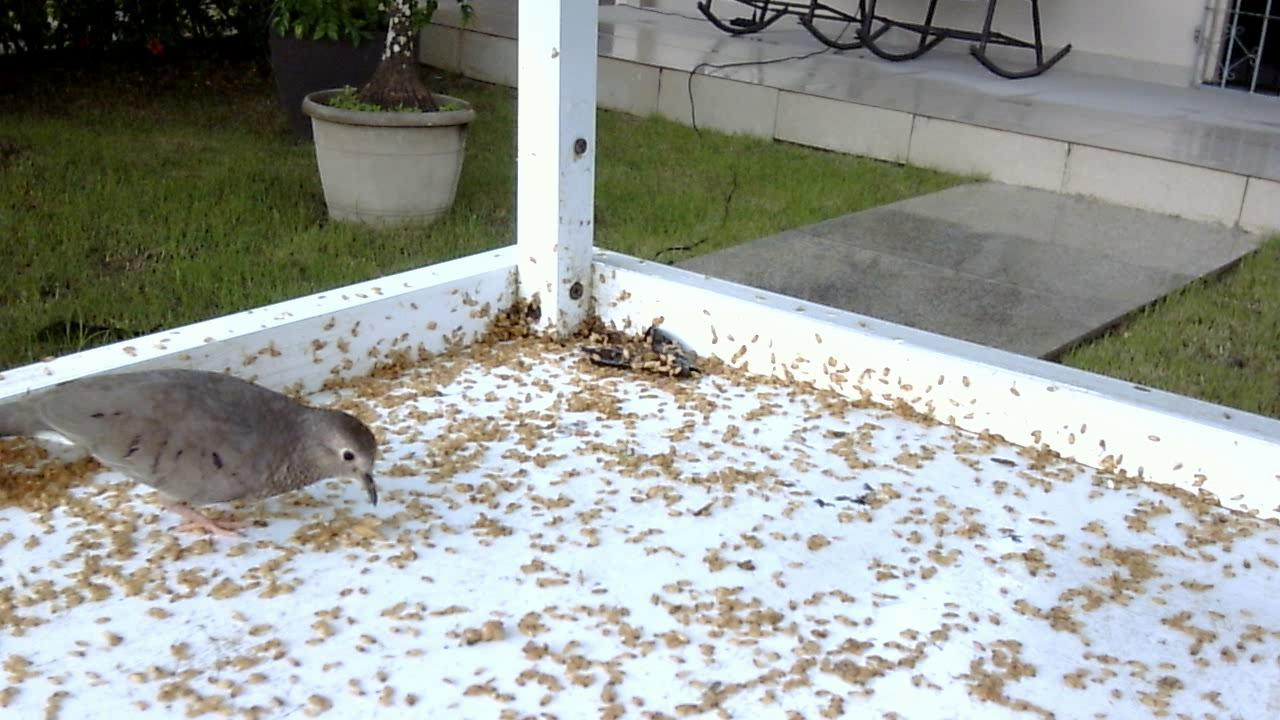rolinha: (11, 360, 383, 557)
